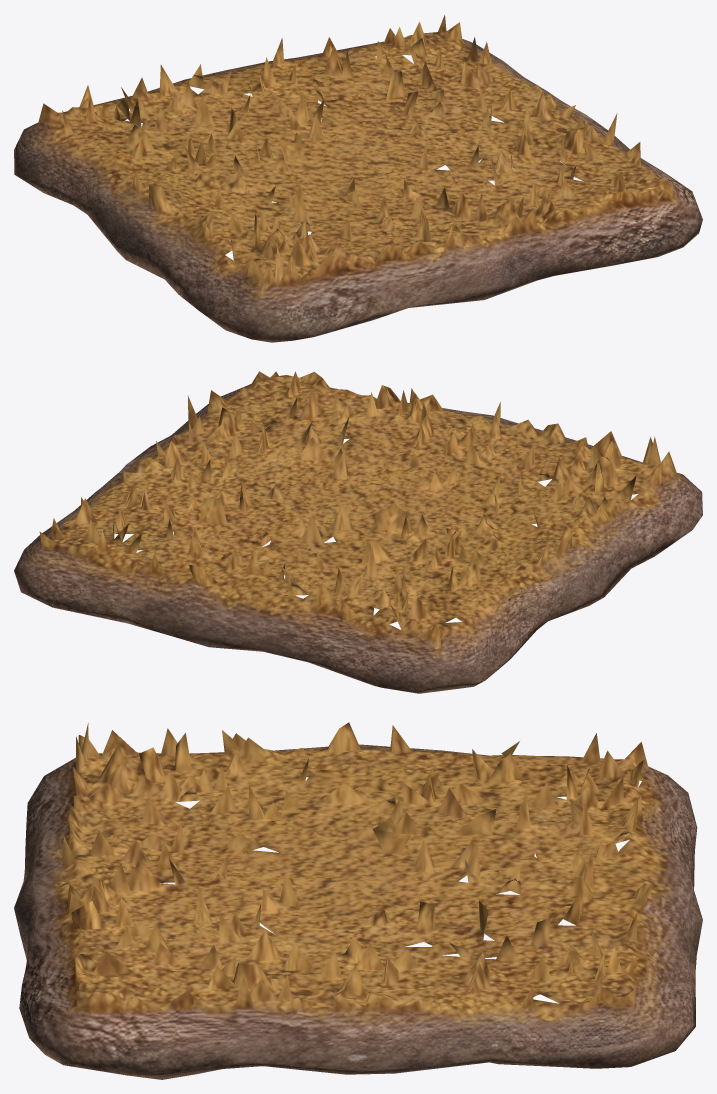
The model's file is Plot_grain.glb.
3 views of the same model, one above another, from view 1: azimuth 30°, elevation 25°; view 2: azimuth 150°, elevation 25°; view 3: azimuth 270°, elevation 25° (orthographic). The views are drawn at different scales.
Parts seen in each view (by area): view 1: tripo_node_cf908f02-0322-40ab-8d61-6f4ae3a42d52; view 2: tripo_node_cf908f02-0322-40ab-8d61-6f4ae3a42d52; view 3: tripo_node_cf908f02-0322-40ab-8d61-6f4ae3a42d52.
Part boxes in pixels (x1,y1,x2,y2): tripo_node_cf908f02-0322-40ab-8d61-6f4ae3a42d52: [14, 15, 702, 342]; tripo_node_cf908f02-0322-40ab-8d61-6f4ae3a42d52: [14, 371, 702, 693]; tripo_node_cf908f02-0322-40ab-8d61-6f4ae3a42d52: [14, 722, 702, 1079].
Bounding box in the file's own units: 1 × 0.2322 × 1.
Materials: 1 (1 with a texture image).
